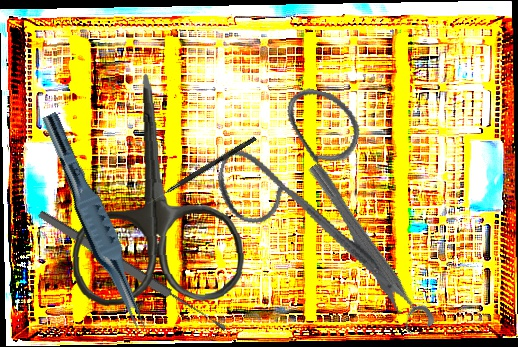Fixation Ring: (294, 160, 438, 340)
Hook Surgical: (146, 134, 257, 208)
Iris Scissors: (196, 72, 459, 319), (62, 68, 246, 309)
Scalpel Handle: (58, 154, 121, 291)
Surgical Spoon: (36, 207, 229, 336)
Tissue Forceps: (29, 110, 160, 335)
